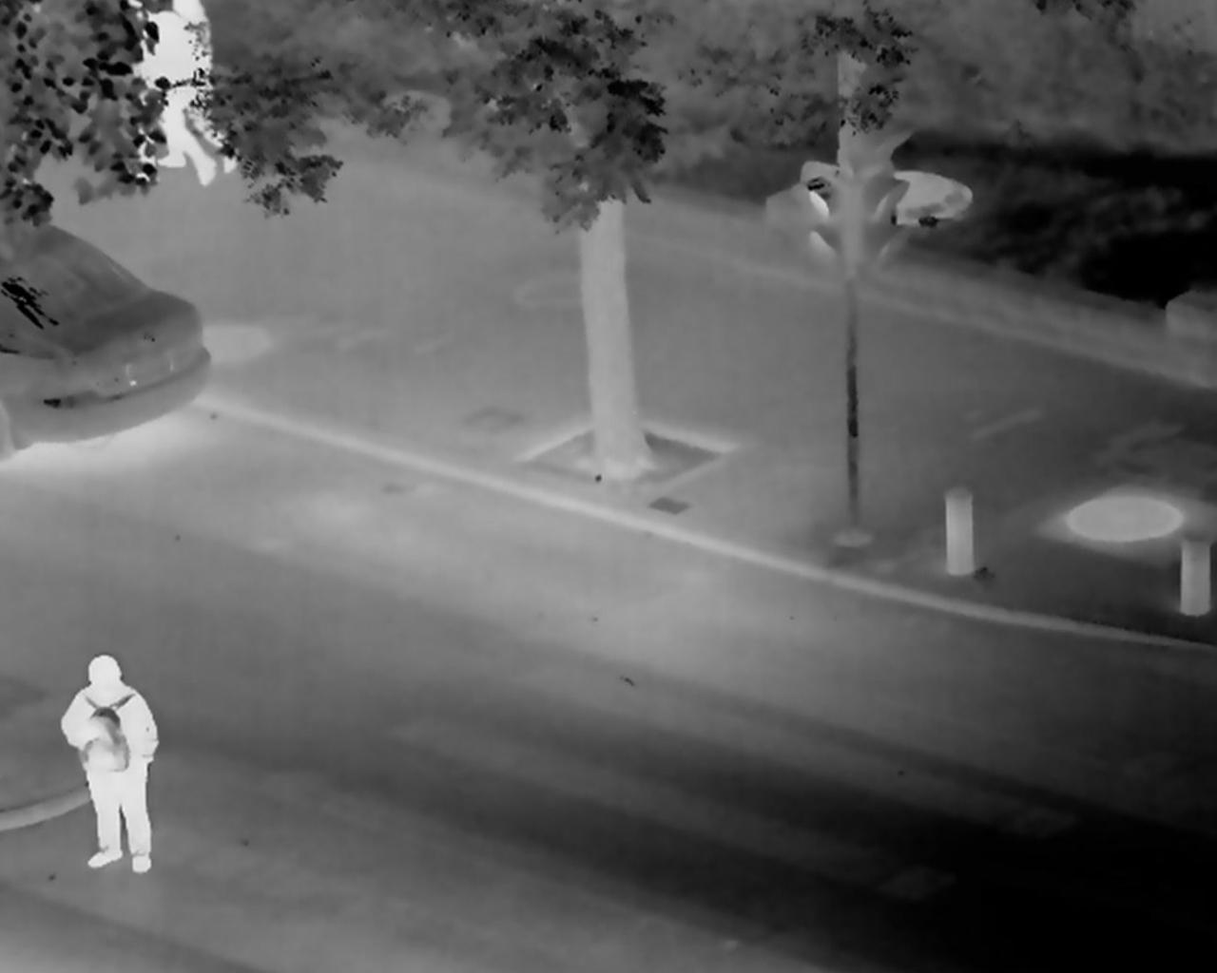person: (64, 643, 179, 880), (123, 2, 230, 170)
